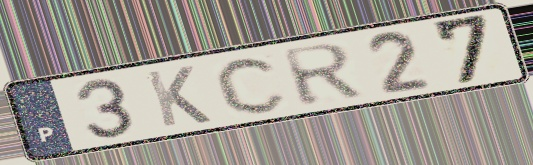2: (364, 29, 434, 96)
3: (72, 75, 137, 142)
7: (428, 12, 494, 88)
C: (213, 54, 292, 116)
K: (141, 63, 216, 130)
R: (277, 41, 367, 109)
